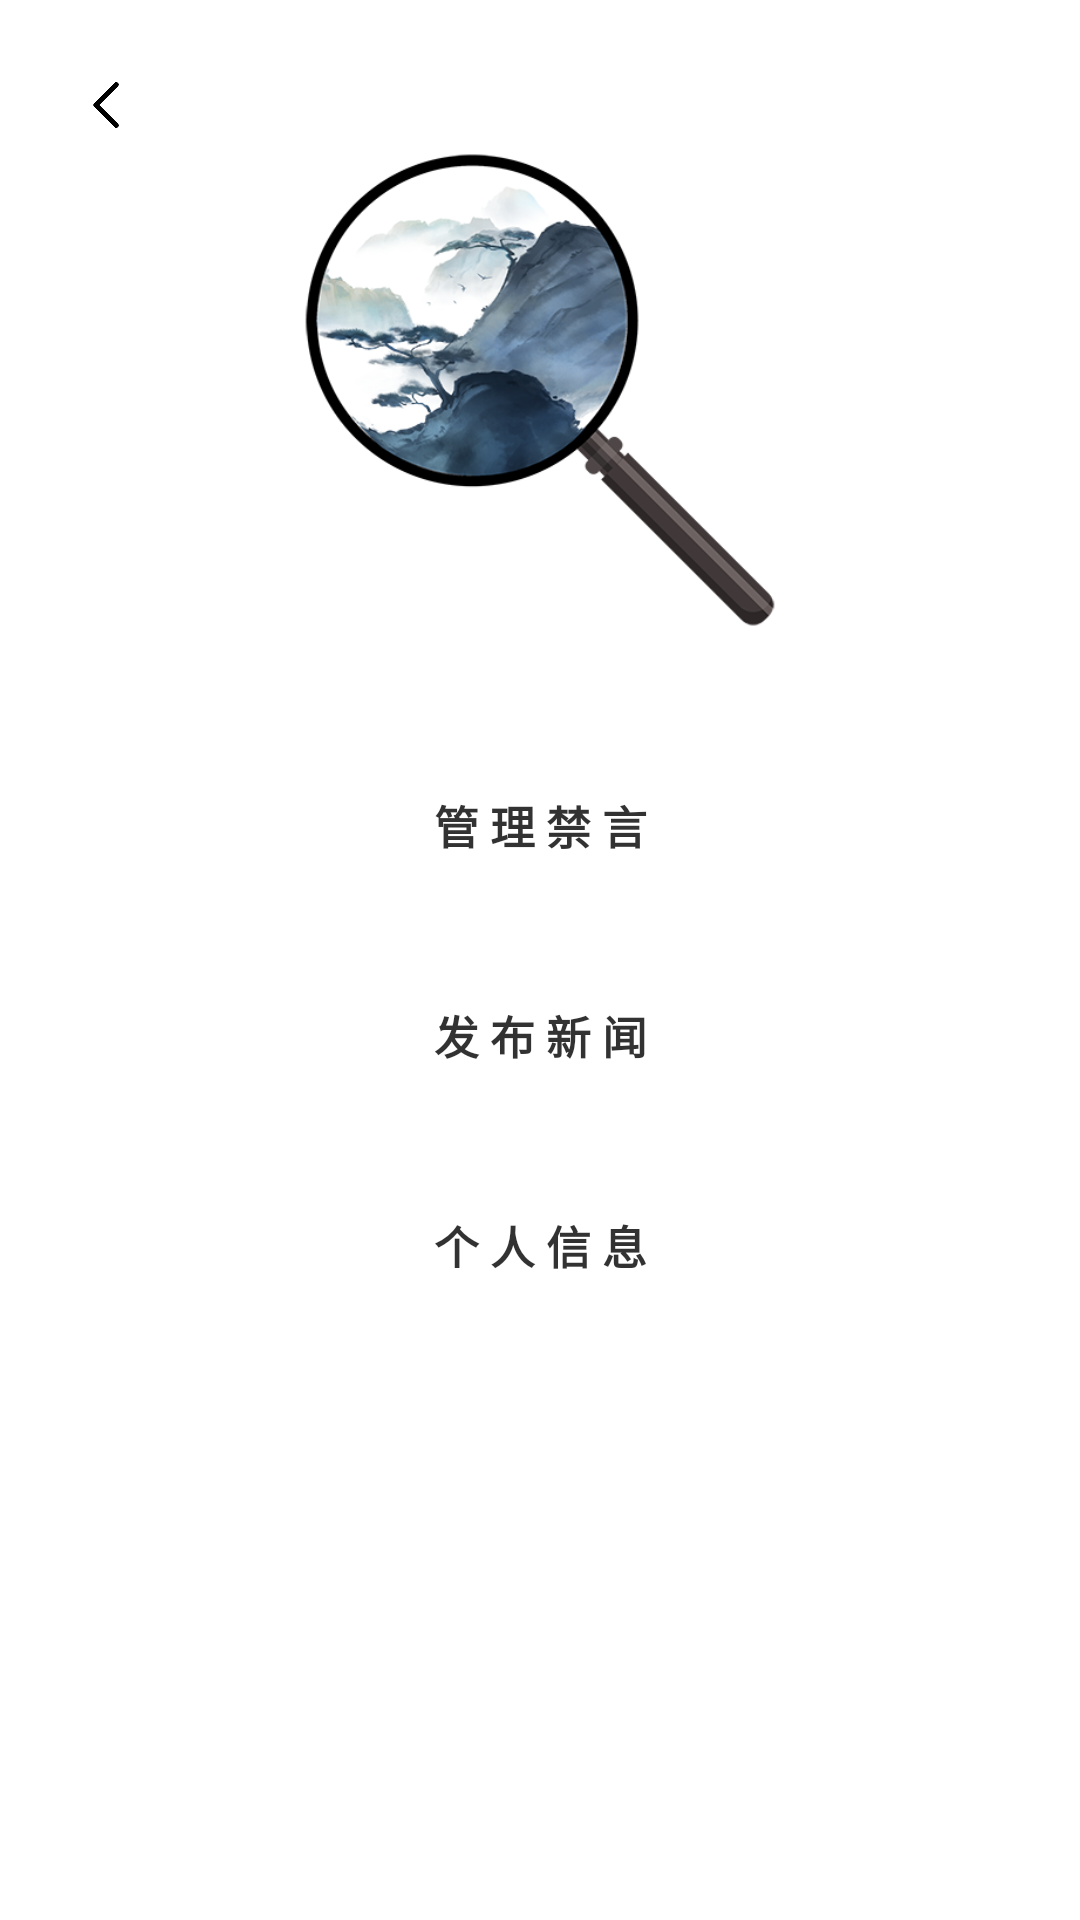

Icon click points for this 1080px x 1920px phone screenshot, format point (x, y):
back: point (106, 105)
